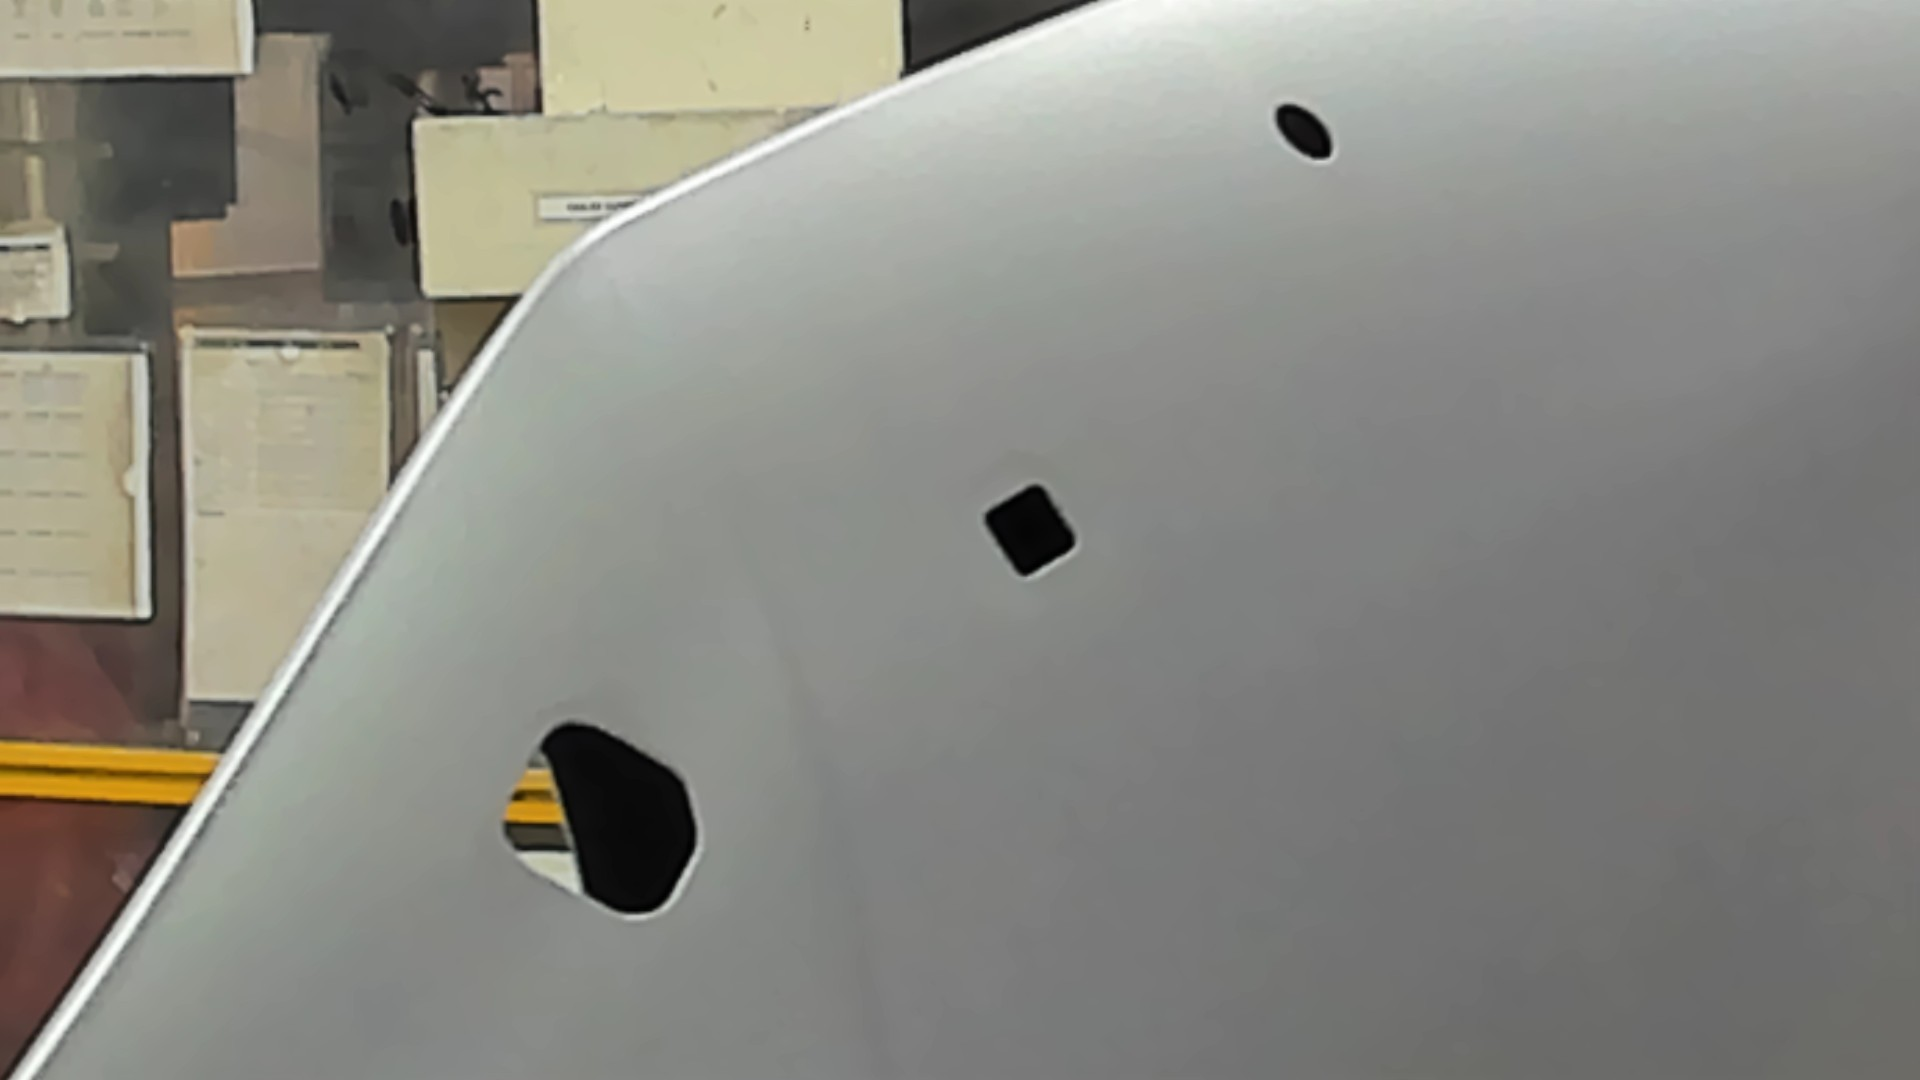chico: (1269, 96, 1341, 169)
grande: (491, 713, 707, 931)
mediano: (977, 476, 1084, 585)
